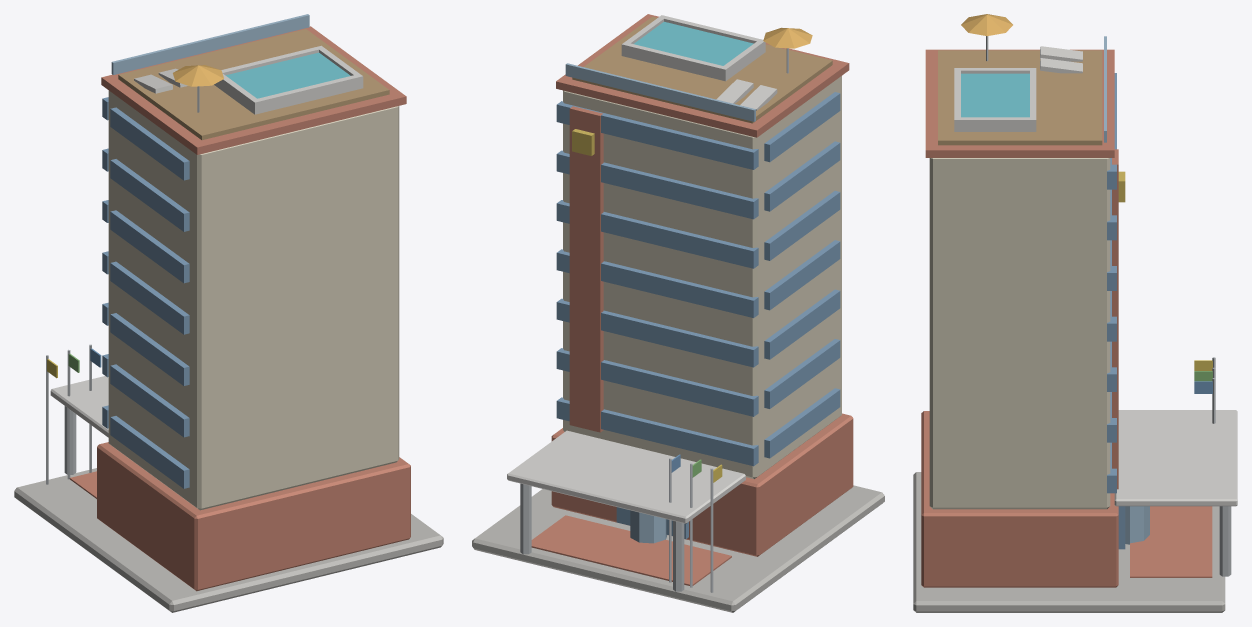
The model's file is comercial__hotel.glb.
The picture shows the model from 3 angles, left to right: view 1: azimuth 30°, elevation 25°; view 2: azimuth 150°, elevation 25°; view 3: azimuth 270°, elevation 25°; orthographic projection. The views are drawn at different scales.
Visible parts, largest first — view 1: comercial__hotel; view 2: comercial__hotel; view 3: comercial__hotel.
Boxes of the visible parts, x1,y1,x2,y2 form: comercial__hotel: (14, 14, 443, 612); comercial__hotel: (472, 14, 884, 612); comercial__hotel: (913, 14, 1237, 612).
Size of the model in its own units: 1.9 by 3.35 by 1.98.
